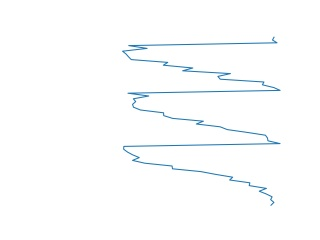distributaryMouthBar: (120, 36, 283, 207)
